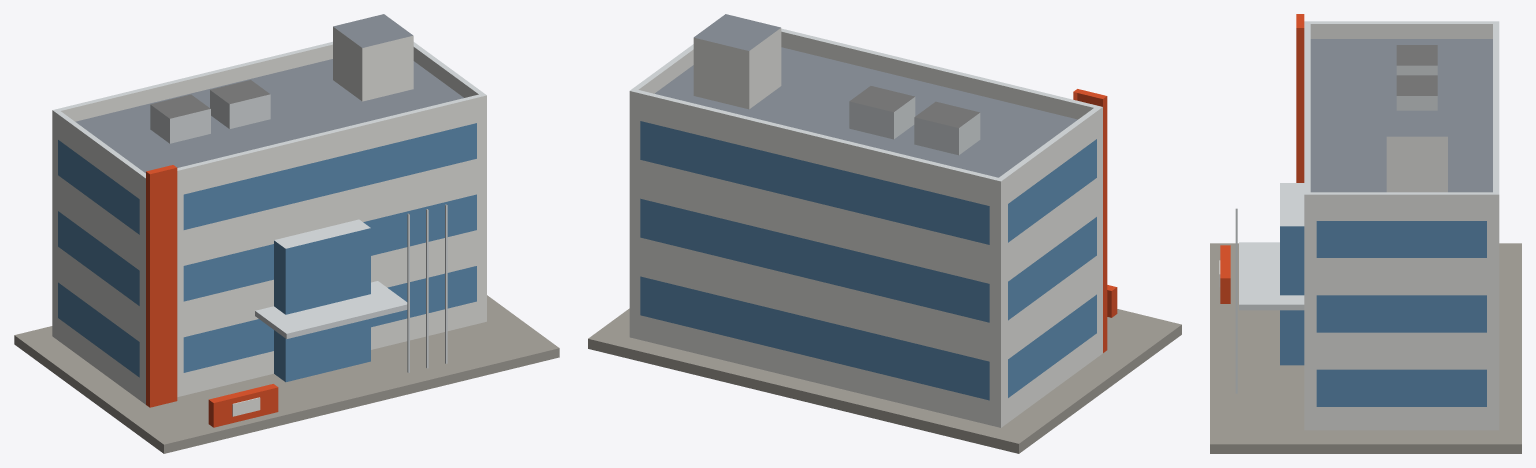
The model's file is mashup-admin-top-prebuilt.fbx.
3 views of the same model, side by side, from view 1: azimuth 30°, elevation 25°; view 2: azimuth 150°, elevation 25°; view 3: azimuth 270°, elevation 25° (orthographic). The views are drawn at different scales.
Visible parts, largest first — view 1: a1082/0/mashup-admin-top-prebuilt; view 2: a1082/0/mashup-admin-top-prebuilt; view 3: a1082/0/mashup-admin-top-prebuilt.
Boxes of the visible parts, x1=… form: a1082/0/mashup-admin-top-prebuilt: x1=14, y1=14, x2=559, y2=453; a1082/0/mashup-admin-top-prebuilt: x1=588, y1=14, x2=1181, y2=453; a1082/0/mashup-admin-top-prebuilt: x1=1210, y1=14, x2=1521, y2=453.
Bounding box in the file's own units: 23.2 × 15.4 × 15.2.
